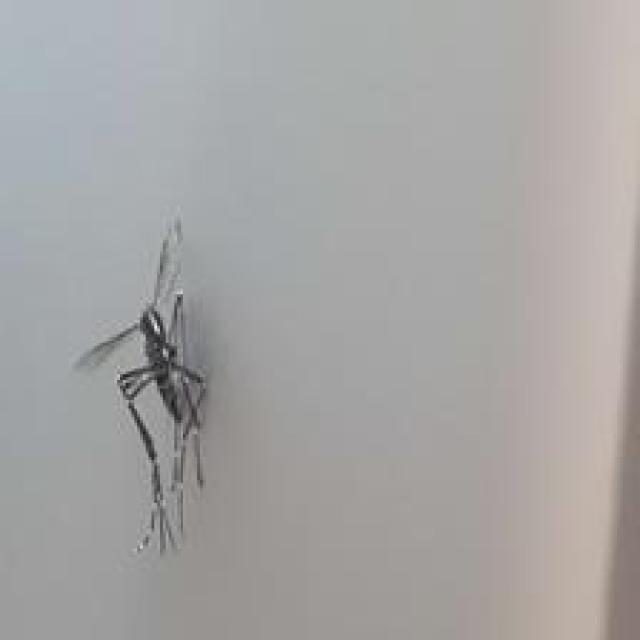Aedes albopictus: (73, 215, 210, 556)
